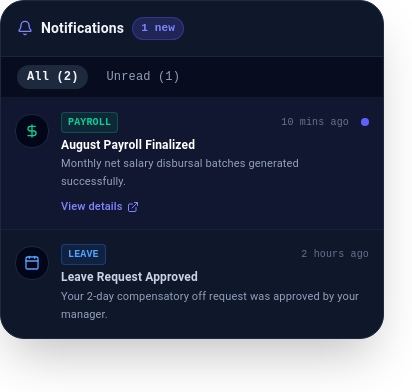
Test: NotificationDropdown Component › filters to unread notifications when unread tab is selected
The width and height of the screenshot is (412, 392).
Click the button "Unread (1)" at (143, 76), box [96,64,190,88]
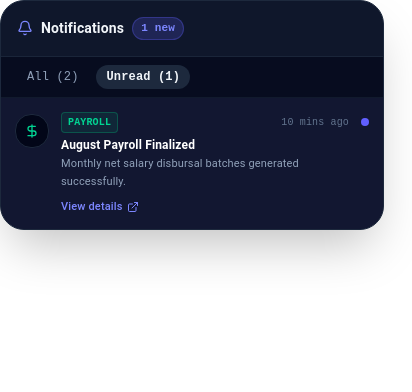
Expected: the heading "August Payroll Finalized" is shown, [61,138,195,152]
Expected: the heading "Leave Request Approved" is gone
